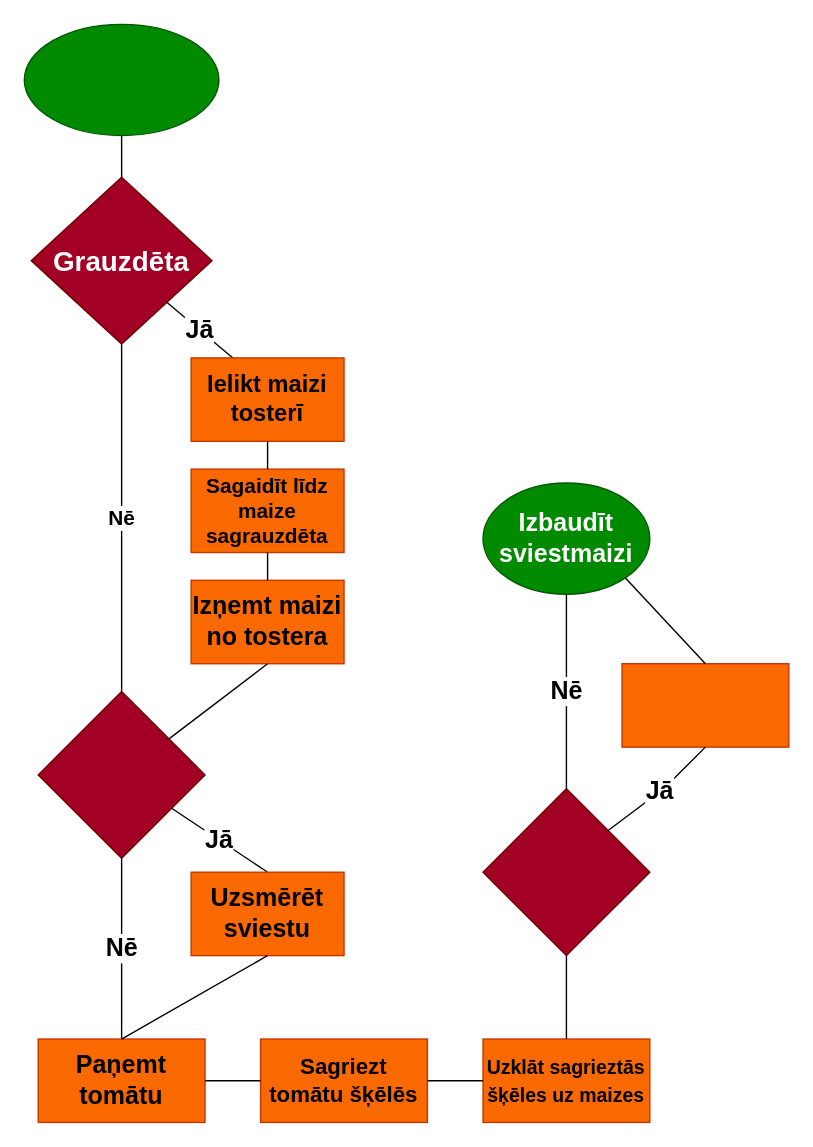
Image size: 813x1147. Some labels were removed from this diagram. The shapes that lost their labels are listed below. From the top down, each one's centre as x and y in pixels, then its label:
At (121,79): "Izņēmt maizi".
At (705,704): "Pievienot šķipsnu sāls".
At (121,774): "Sviests uz maizes".
At (566,871): "Sāls uz tomātiem".
